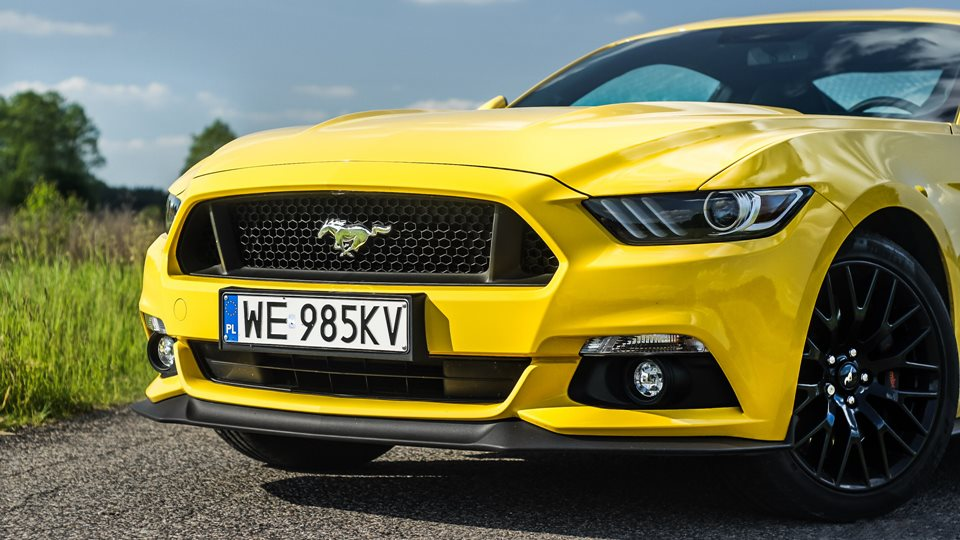number_plate: (221, 290, 411, 356)
